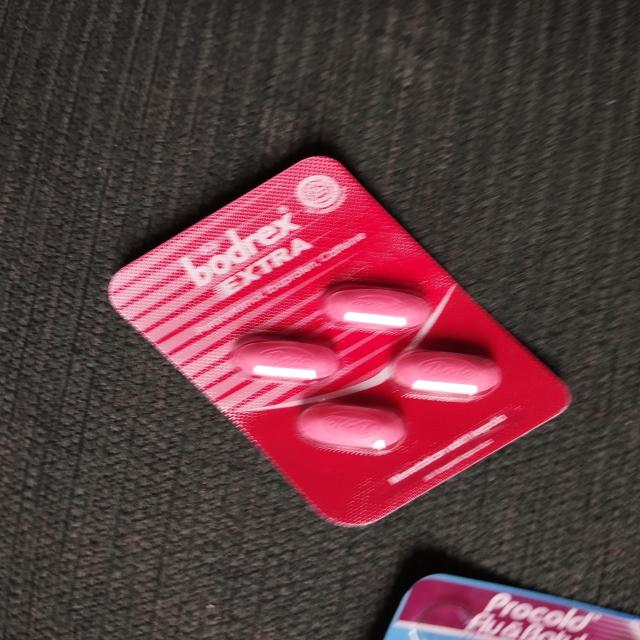B3: (111, 158, 568, 523)
